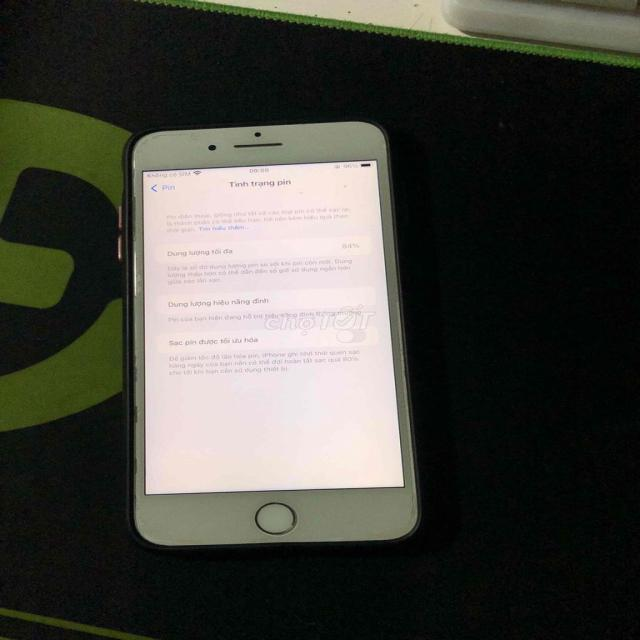scratch: (140, 127, 260, 141), (122, 451, 142, 518), (400, 481, 418, 530), (130, 349, 141, 384), (128, 402, 142, 424)
